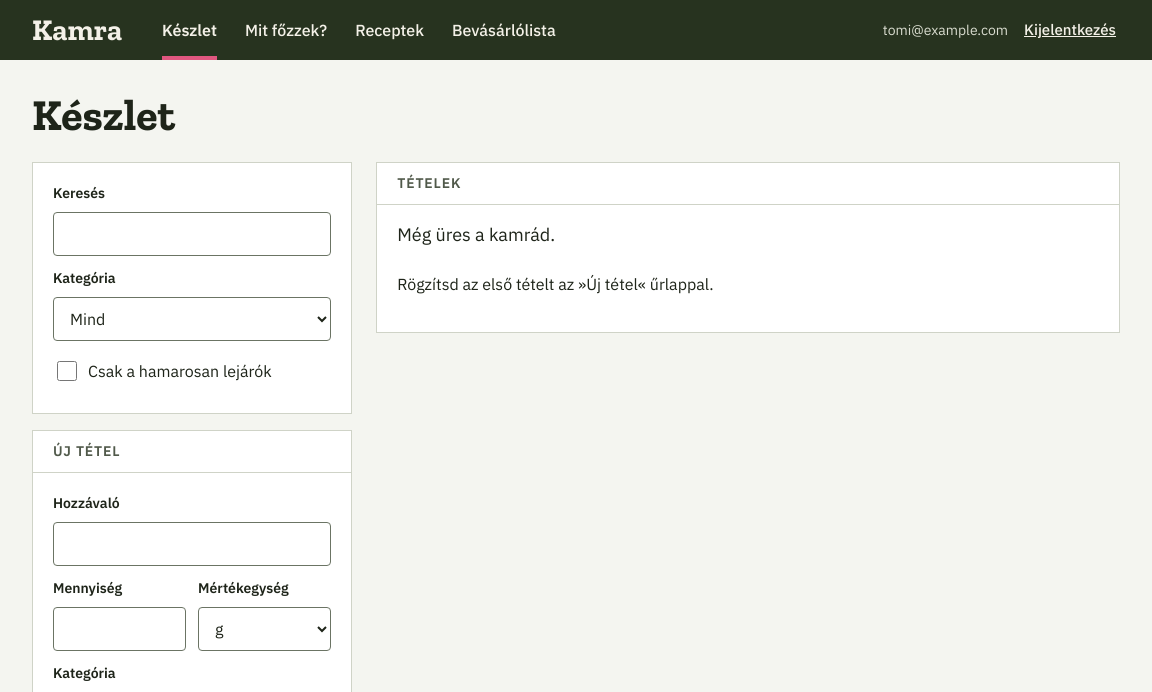
navigation › moves between the pantry and the recipe suggestions and marks the current page
Expected: the heading "Készlet" is shown, [32,88,175,141]
Click the link "Mit főzzek?".
click(286, 30)  # box [245,20,327,40]
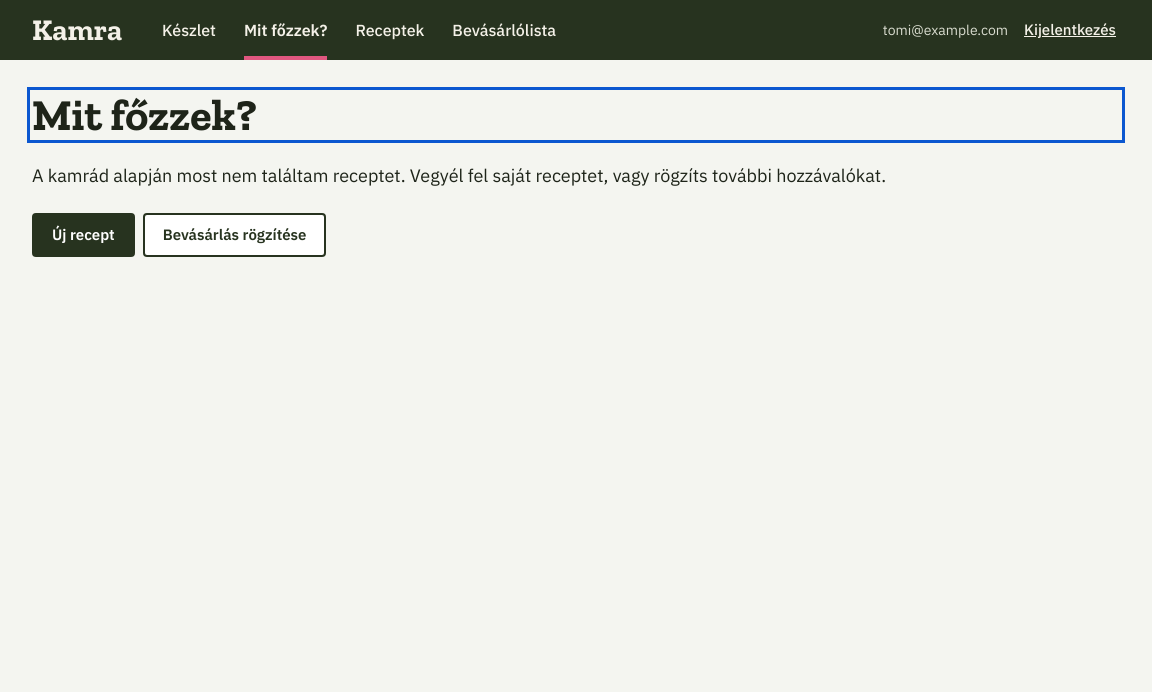
Expected: the heading "Mit főzzek?" is shown, [32,88,257,141]
